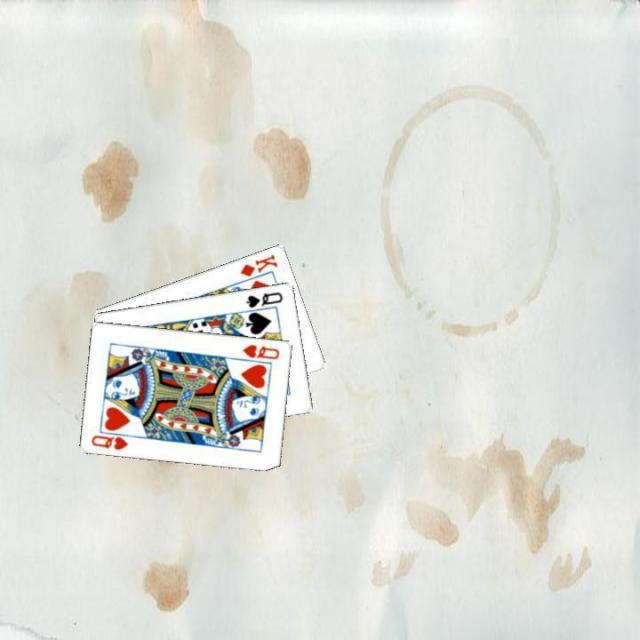KD: (236, 250, 280, 278)
QH: (88, 426, 136, 452), (239, 340, 282, 360)
QS: (242, 288, 284, 310)
